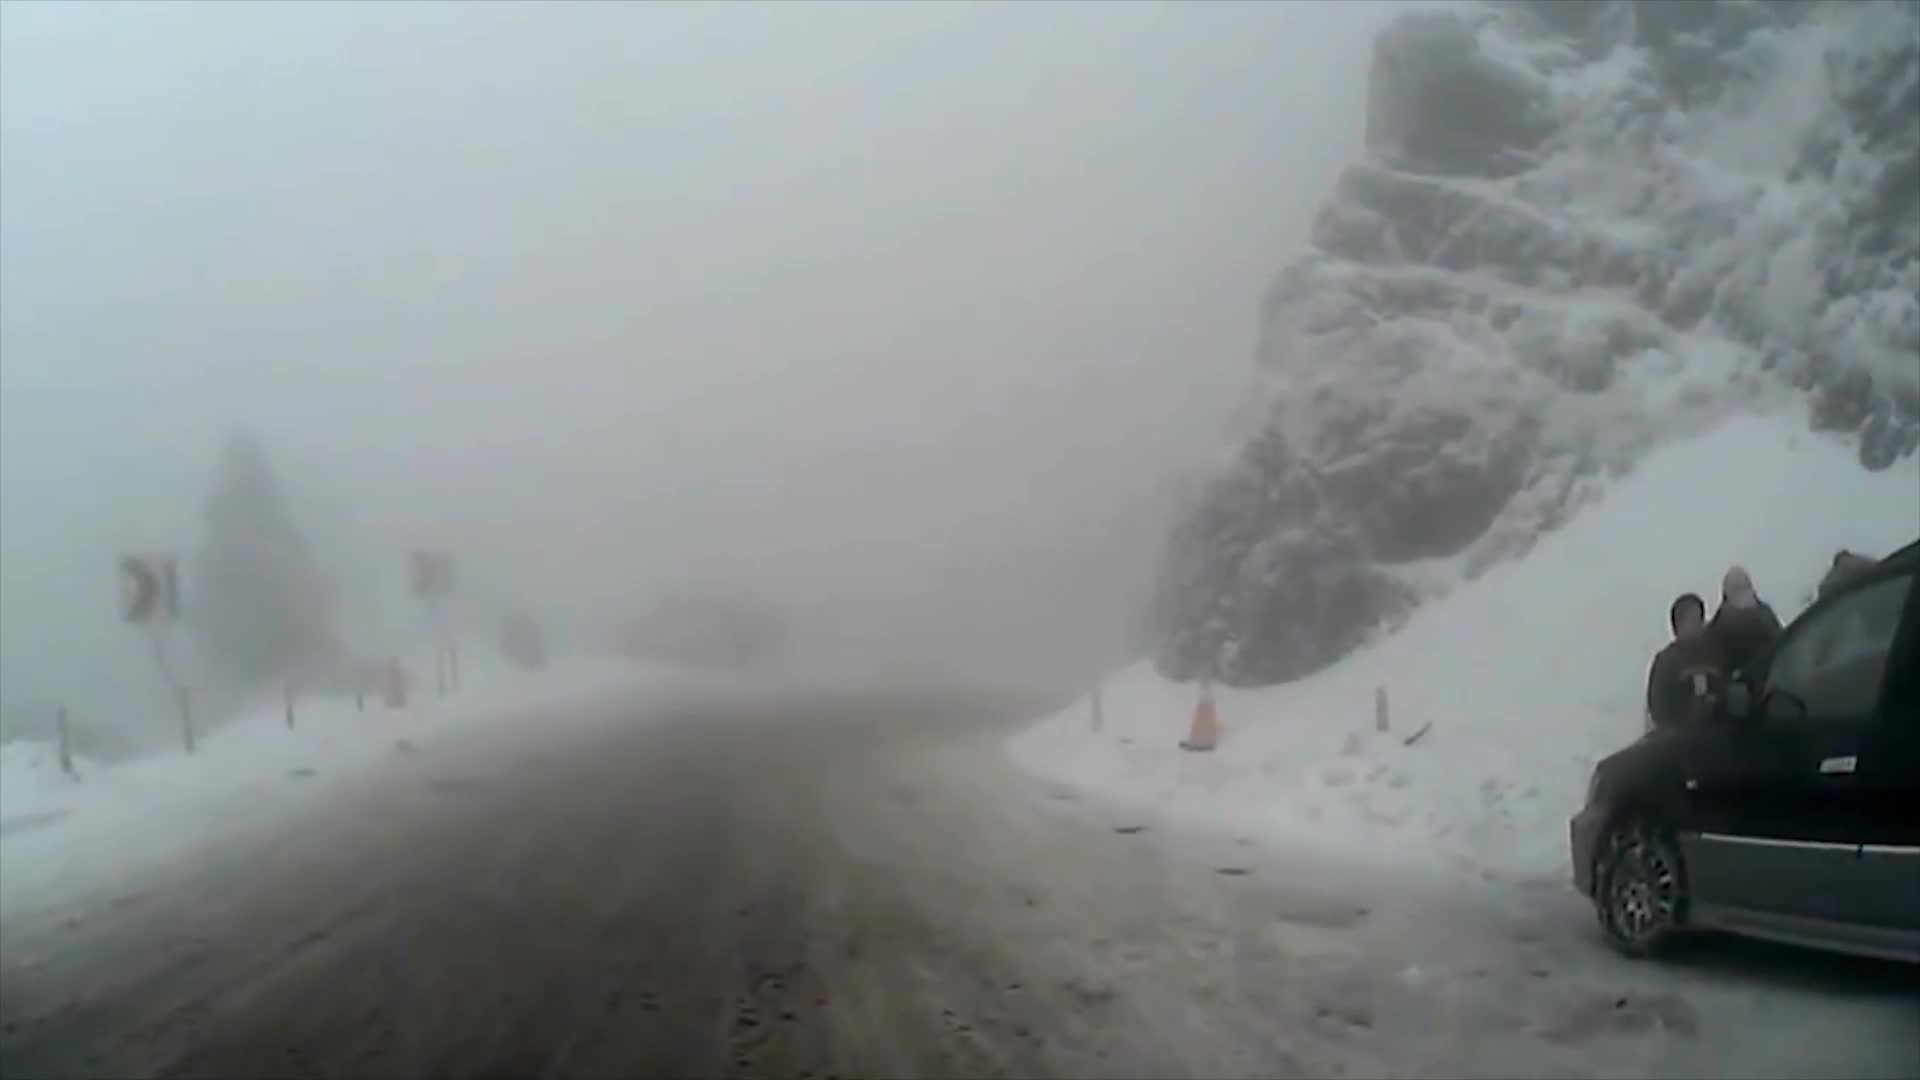pedestrian: (1644, 596, 1738, 902), (1712, 571, 1801, 855)
vehicle: (1568, 550, 1920, 974)
